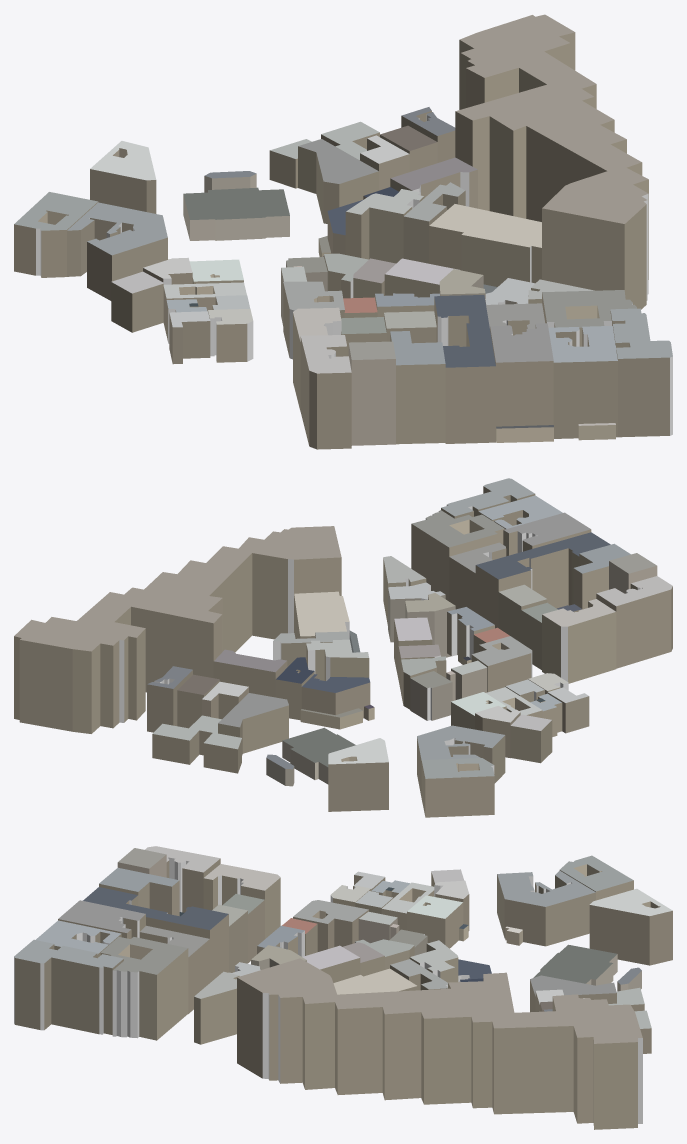
The picture shows the model from 3 angles, top to bottom: view 1: azimuth 30°, elevation 25°; view 2: azimuth 150°, elevation 25°; view 3: azimuth 270°, elevation 25°; orthographic projection. The views are drawn at different scales.
Visible parts, largest first — view 1: tuile; view 2: tuile; view 3: tuile.
Part boxes in pixels (<box>): tuile: <box>14,14,672,449</box>; tuile: <box>14,478,672,817</box>; tuile: <box>14,846,672,1129</box>.
Bounding box in the file's own units: 199 × 34.9 × 236.
